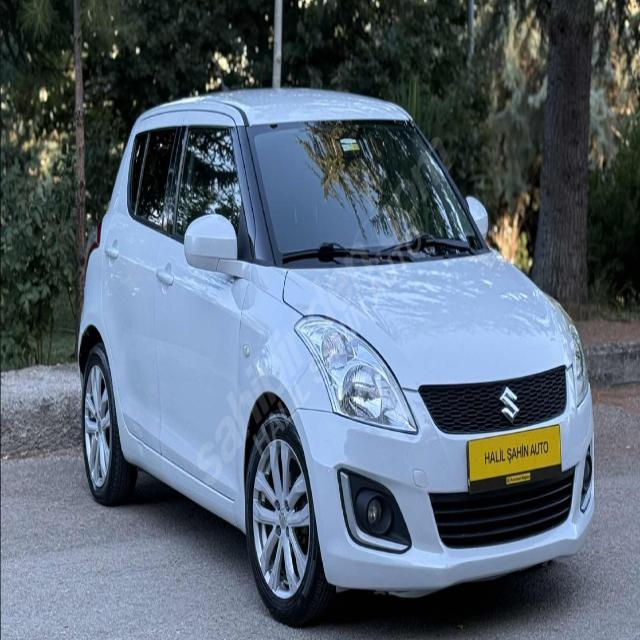suzuki: (498, 381, 520, 426)
